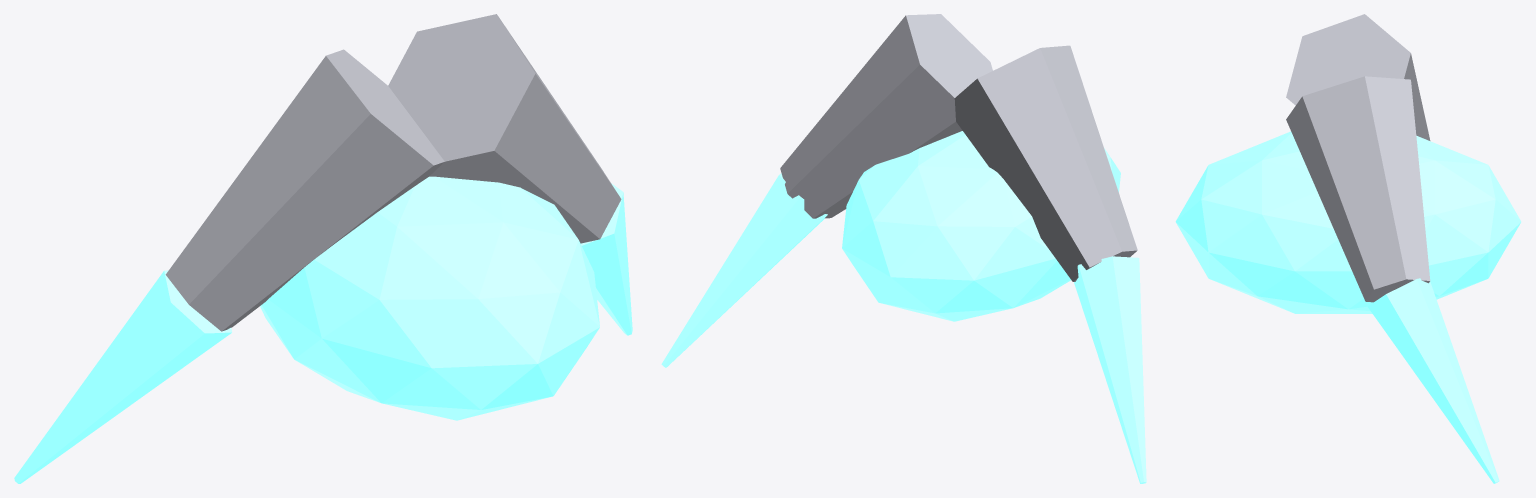
Rendered from SM_Aurora_Spirit.fbx.
The picture shows the model from 3 angles, left to right: view 1: azimuth 30°, elevation 25°; view 2: azimuth 150°, elevation 25°; view 3: azimuth 270°, elevation 25°; orthographic projection. The views are drawn at different scales.
Visible parts, largest first — view 1: SM_Aurora_Spirit; view 2: SM_Aurora_Spirit; view 3: SM_Aurora_Spirit.
Part boxes in pixels (x1,y1,x2,y2): SM_Aurora_Spirit: [14, 14, 632, 483]; SM_Aurora_Spirit: [661, 14, 1146, 483]; SM_Aurora_Spirit: [1175, 14, 1521, 483].
Size of the model in its own units: 64.71 by 42 by 43.91.
